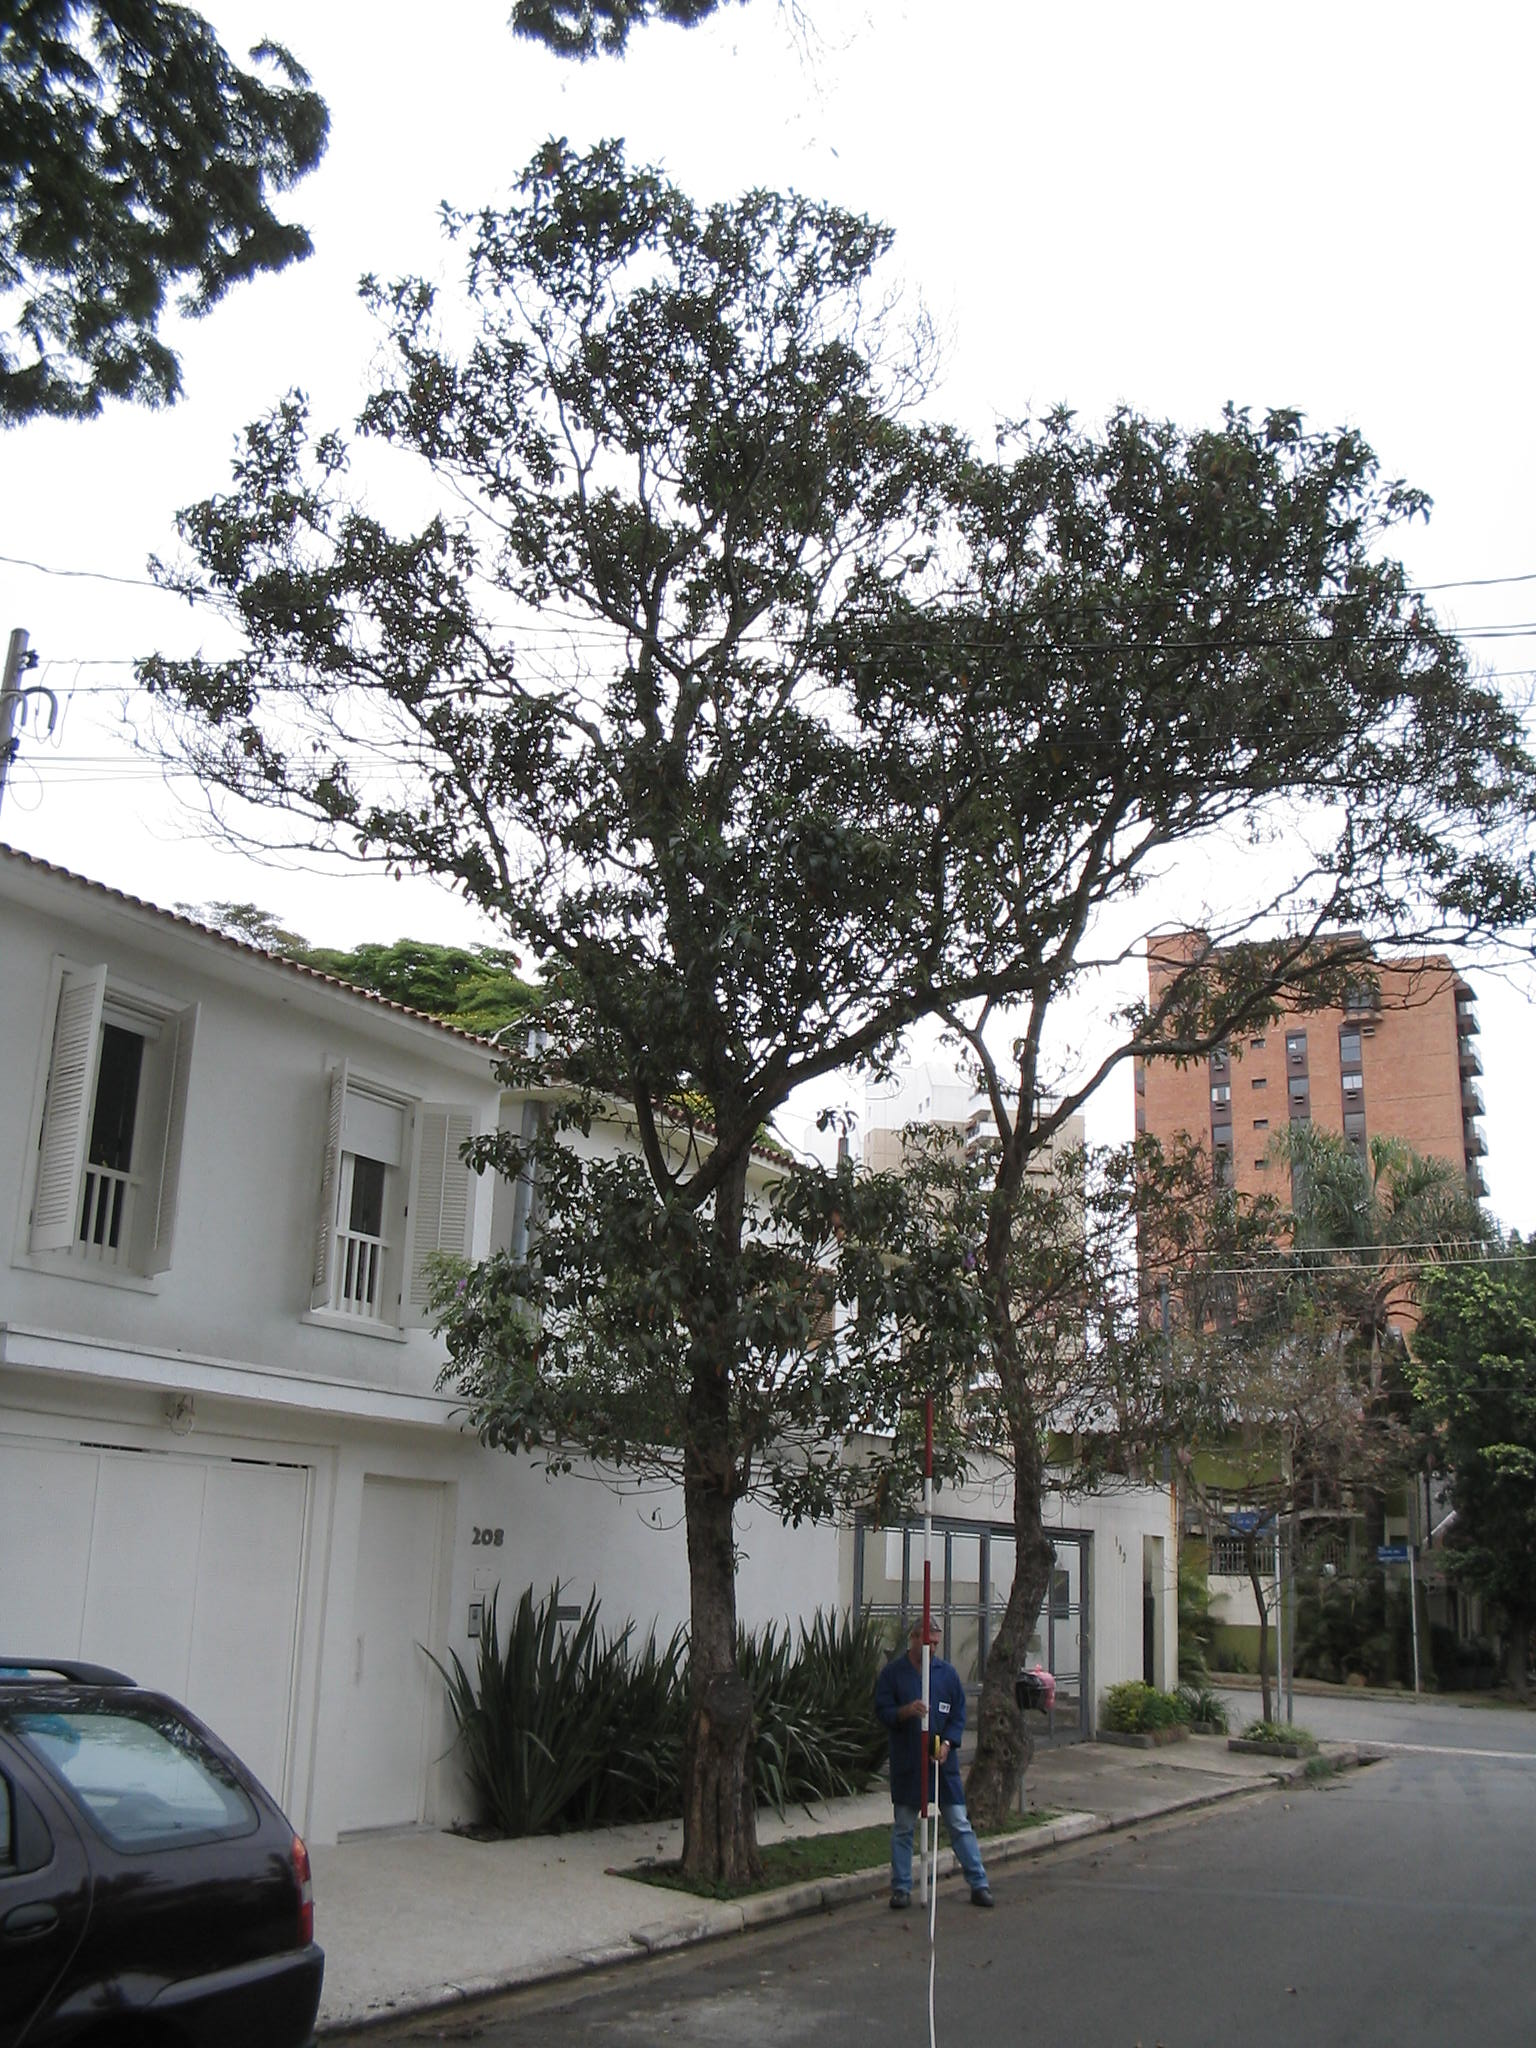crown: (140, 142, 1291, 1163), (921, 426, 1528, 1024)
stem: (615, 1226, 858, 1882)
stick: (887, 1395, 970, 1908)
tree: (139, 137, 1442, 1887), (916, 421, 1525, 1832)
